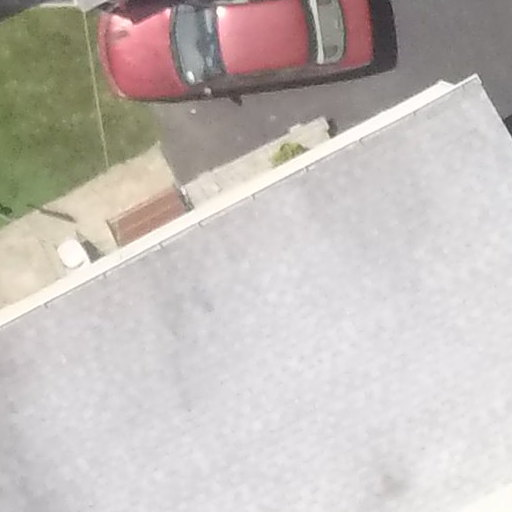car: (99, 1, 385, 118)
